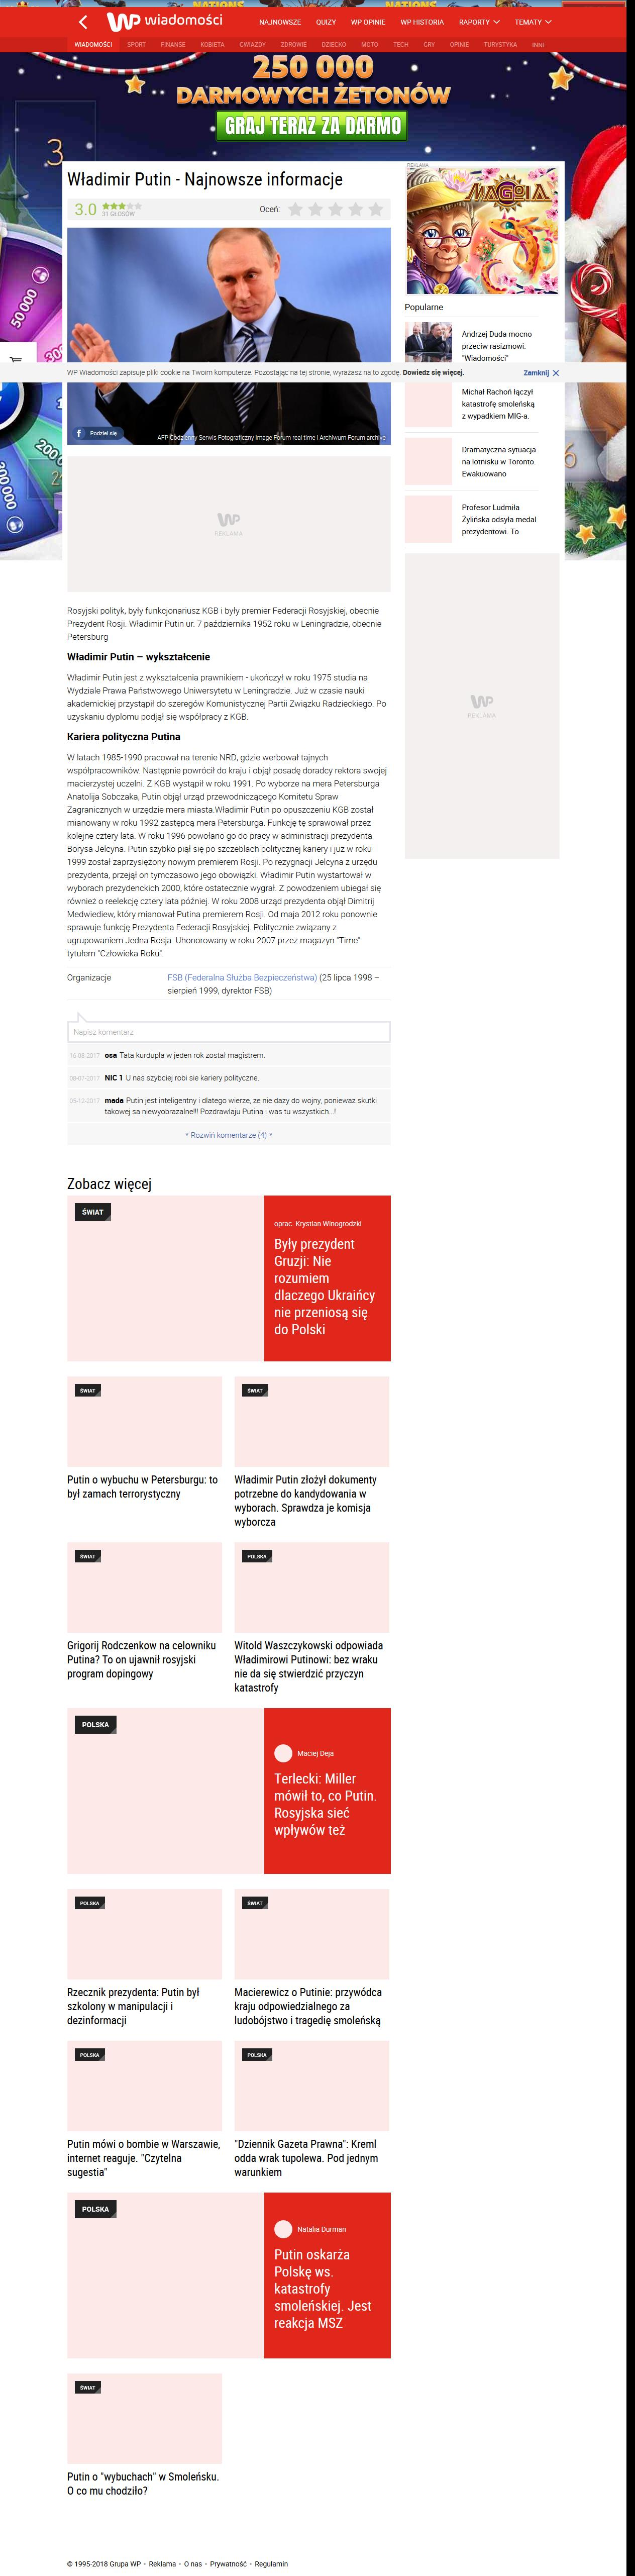title: (67, 171, 345, 191)
